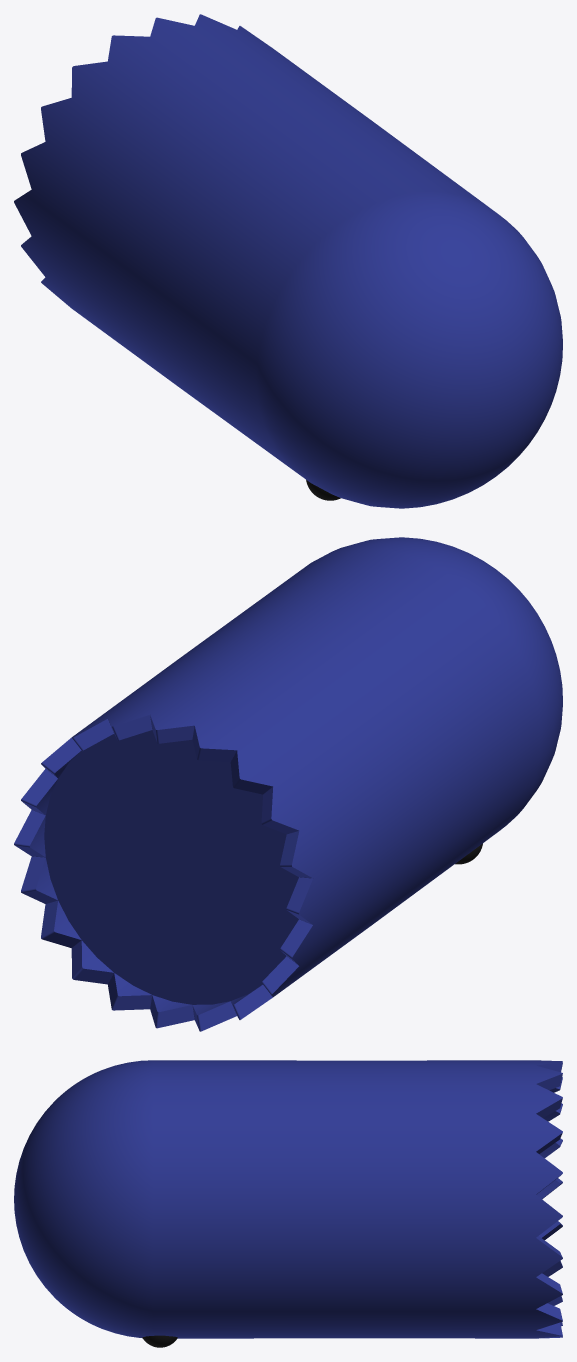
Rendered from Ghost blue.fbx.
3 views of the same model, one above another, from view 1: azimuth 30°, elevation 25°; view 2: azimuth 150°, elevation 25°; view 3: azimuth 270°, elevation 25° (orthographic). The views are drawn at different scales.
Visible parts, largest first — view 1: Body4; view 2: Body4; view 3: Body4.
Boxes of the visible parts, x1,y1,x2,y2 form: Body4: [14, 14, 562, 508]; Body4: [14, 537, 562, 1031]; Body4: [14, 1060, 562, 1338].
Bounding box in the file's own units: 200 × 200 × 394.
